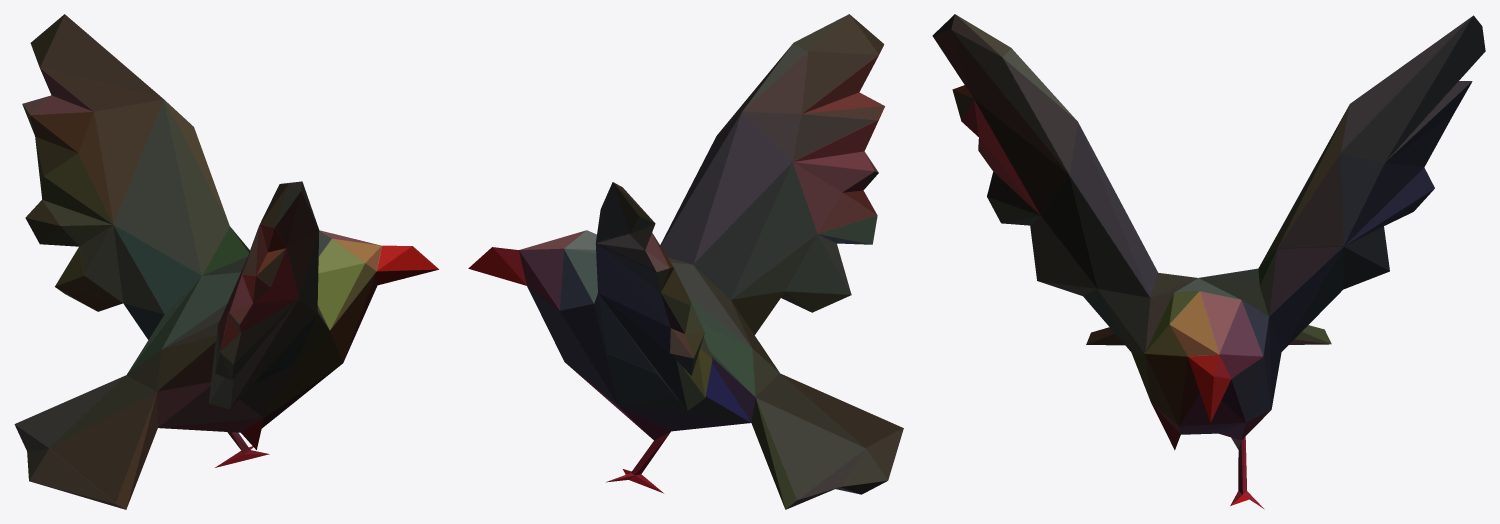
File: raven.fbx
3 views of the same model, side by side, from view 1: azimuth 30°, elevation 25°; view 2: azimuth 150°, elevation 25°; view 3: azimuth 270°, elevation 25° (orthographic). The views are drawn at different scales.
Visible parts, largest first — view 1: Mesh_0; view 2: Mesh_0; view 3: Mesh_0.
Part boxes in pixels (x1,y1,x2,y2): Mesh_0: (14, 14, 438, 509); Mesh_0: (468, 14, 903, 509); Mesh_0: (932, 14, 1485, 509).
Bounding box in the file's own units: 157 × 143 × 161.
1 material, 1 textured.
